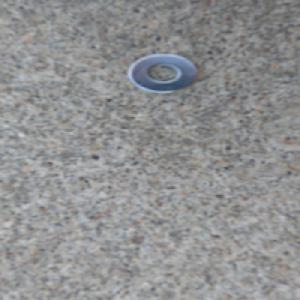Washer: (124, 52, 200, 95)
